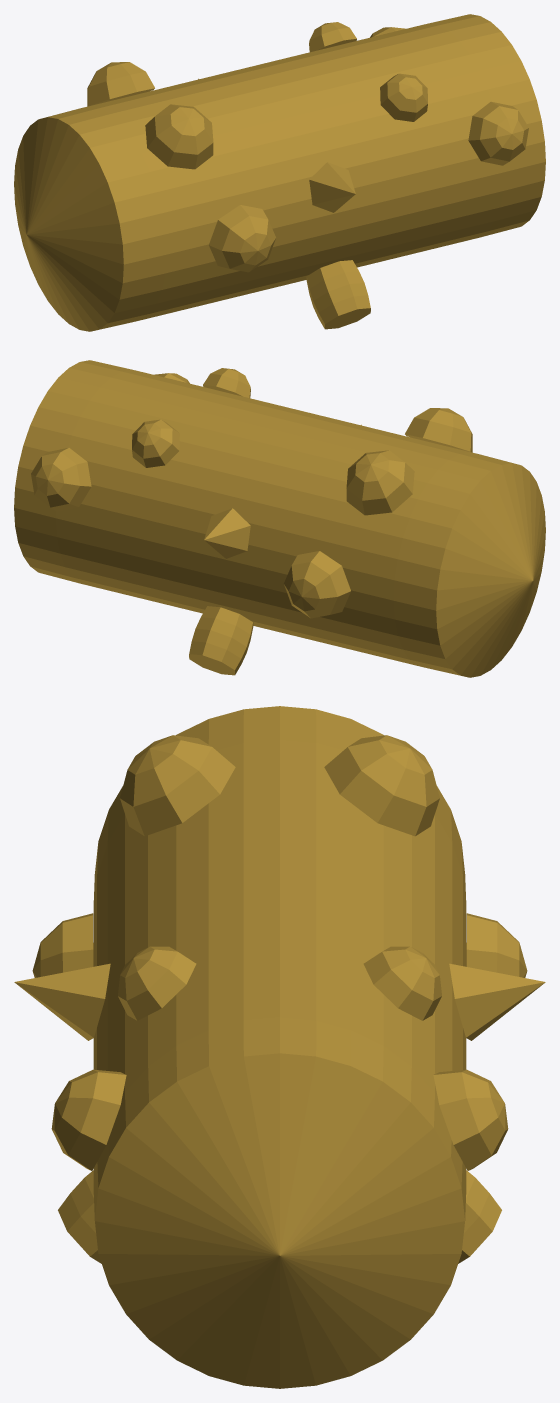
File: exp1_ovoid_cylinder_sym_01.glb
The picture shows the model from 3 angles, top to bottom: view 1: azimuth 30°, elevation 25°; view 2: azimuth 150°, elevation 25°; view 3: azimuth 270°, elevation 25°; orthographic projection. The views are drawn at different scales.
Parts seen in each view (by area): view 1: exp1_ovoid_cylinder_sym_01; view 2: exp1_ovoid_cylinder_sym_01; view 3: exp1_ovoid_cylinder_sym_01.
Part boxes in pixels (x1,y1,x2,y2): exp1_ovoid_cylinder_sym_01: (14,14,545,331); exp1_ovoid_cylinder_sym_01: (14,360,545,677); exp1_ovoid_cylinder_sym_01: (14,706,545,1388).
Bounding box in the file's own units: 3.44 × 1.57 × 1.85.
